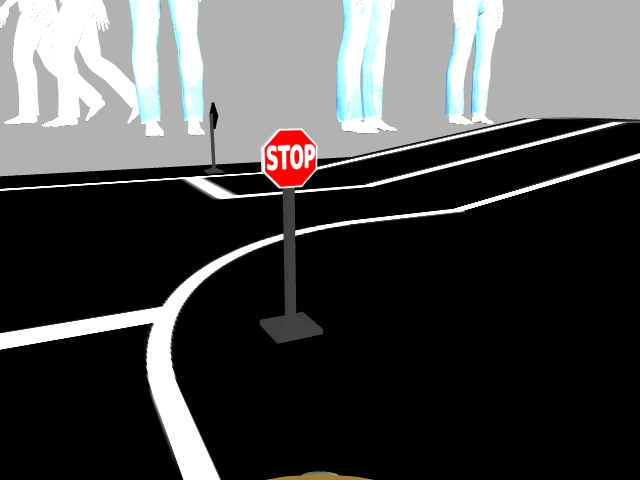Stop: (263, 129, 317, 188)
